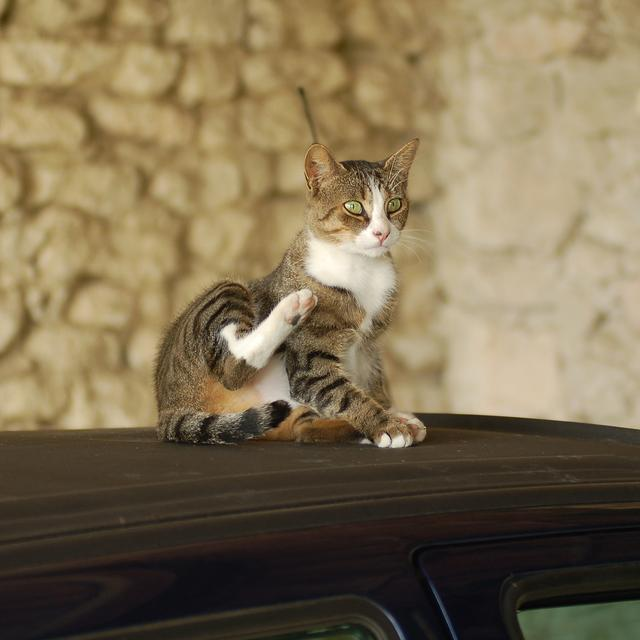animals: (312, 138, 416, 240)
